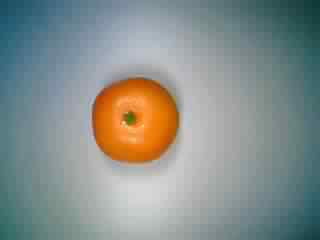orange: (87, 73, 186, 170)
